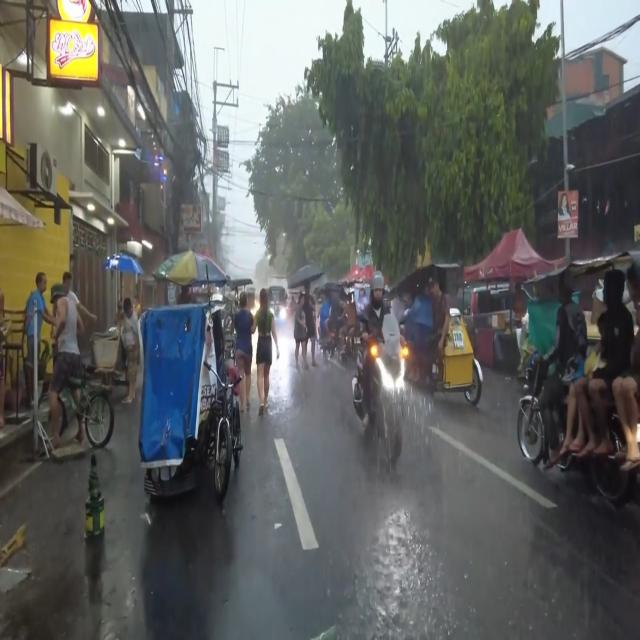half: (369, 270, 386, 311)
